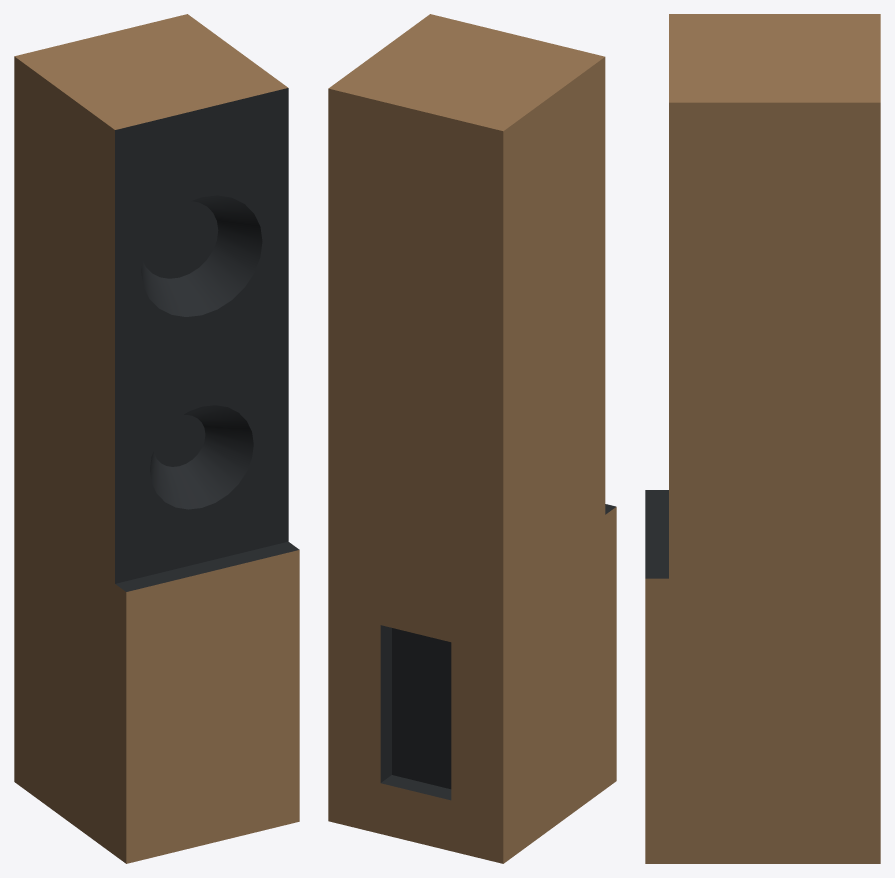
File: speaker-floor.glb
3 views of the same model, side by side, from view 1: azimuth 30°, elevation 25°; view 2: azimuth 150°, elevation 25°; view 3: azimuth 270°, elevation 25° (orthographic). The views are drawn at different scales.
Visible parts, largest first — view 1: speaker-floor; view 2: speaker-floor; view 3: speaker-floor.
Boxes of the visible parts, left/top/right/bottom form: speaker-floor: left=14, top=14, right=299, bottom=863; speaker-floor: left=328, top=14, right=616, bottom=863; speaker-floor: left=645, top=14, right=880, bottom=863.
Size of the model in its own units: 0.25 by 1 by 0.28.
